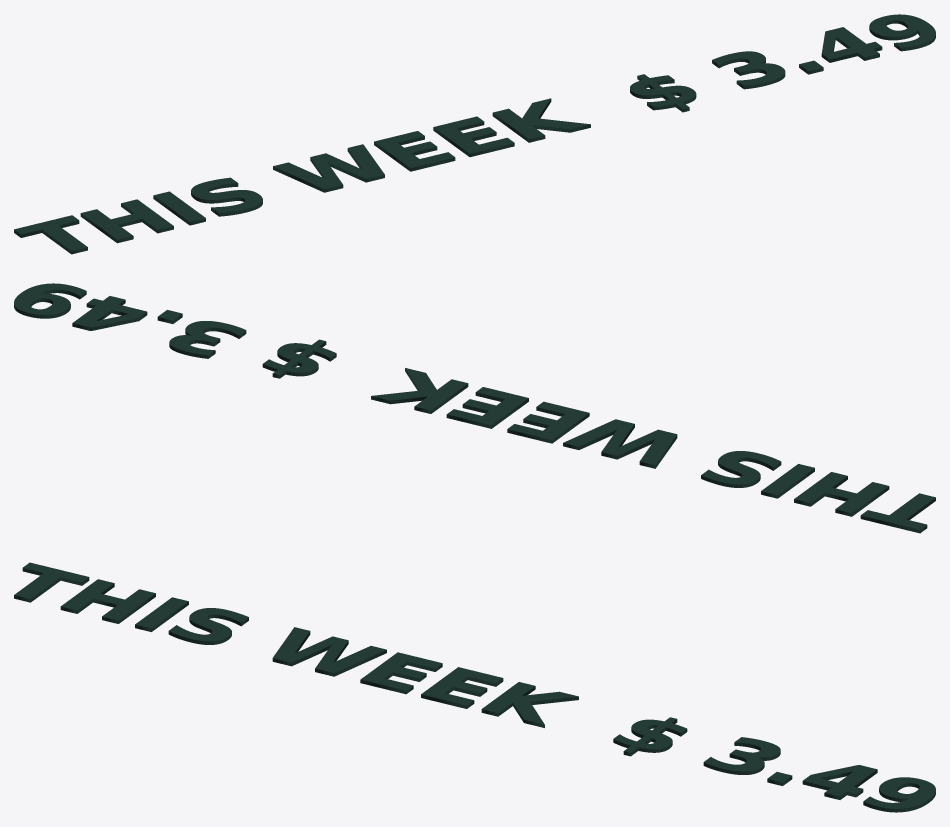
The model's file is SM_EG_Promotional_price_b0982affc5.fbx.
The picture shows the model from 3 angles, top to bottom: view 1: azimuth 30°, elevation 25°; view 2: azimuth 150°, elevation 25°; view 3: azimuth 330°, elevation 25°; orthographic projection. The views are drawn at different scales.
Visible parts, largest first — view 1: SM_EG_Promotional_price_b0982affc5; view 2: SM_EG_Promotional_price_b0982affc5; view 3: SM_EG_Promotional_price_b0982affc5.
Boxes of the visible parts, bbox=[...] form: SM_EG_Promotional_price_b0982affc5: bbox=[14, 14, 935, 254]; SM_EG_Promotional_price_b0982affc5: bbox=[14, 283, 935, 533]; SM_EG_Promotional_price_b0982affc5: bbox=[14, 562, 935, 812].
Bounding box in the file's own units: 53.33 × 4.68 × 0.2.
